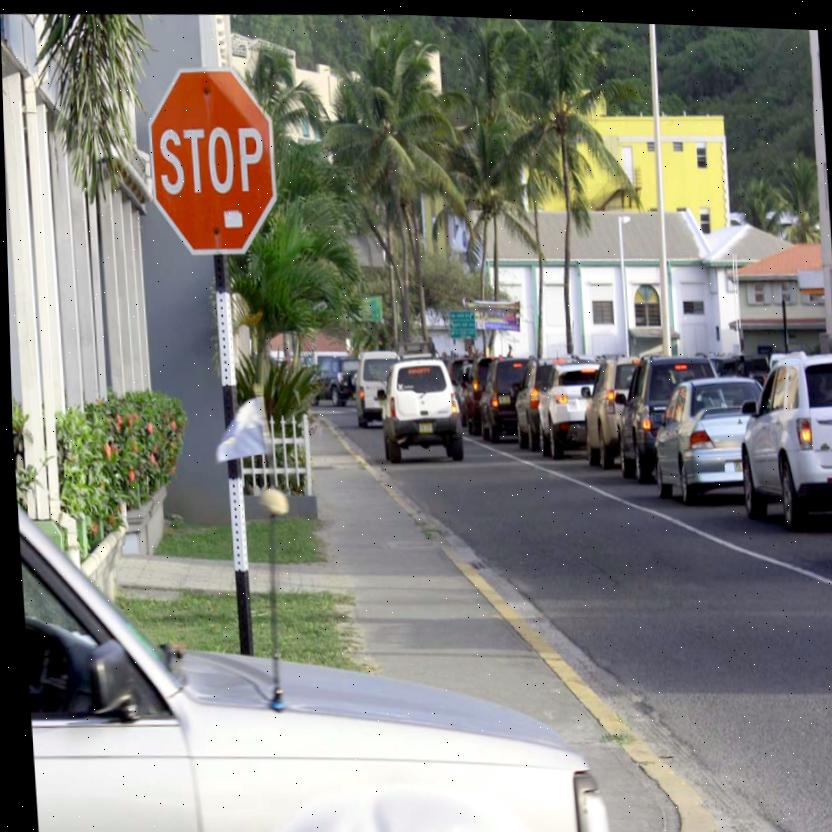Pole: (212, 254, 252, 648)
Sign: (143, 65, 280, 256)
